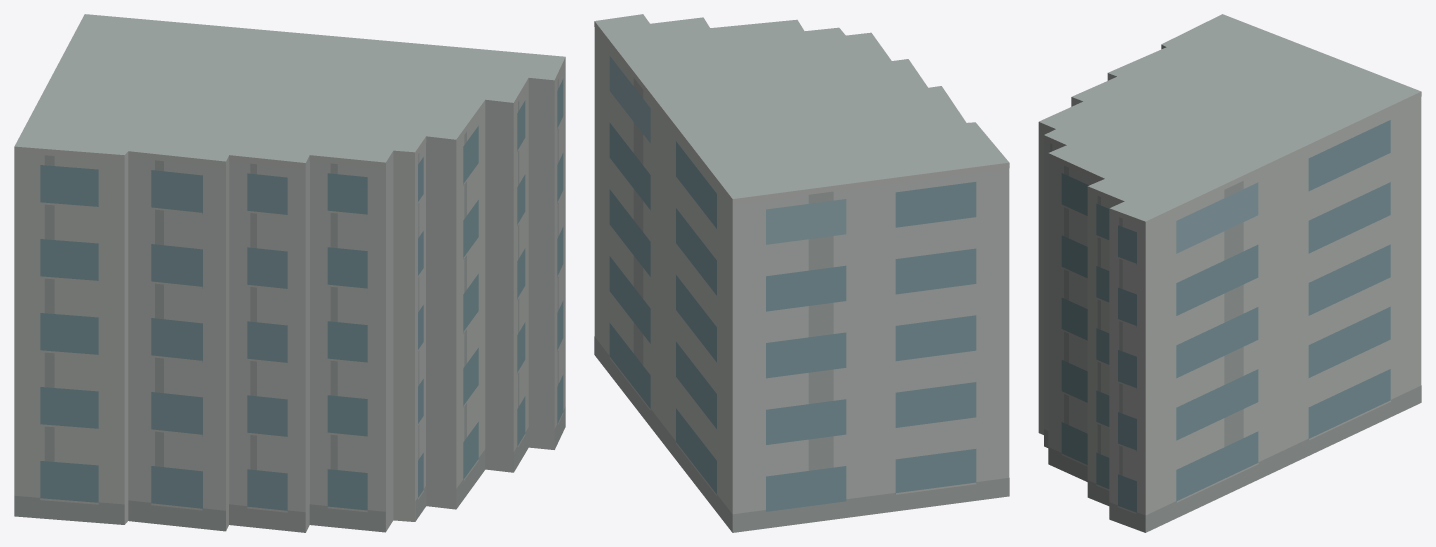
File: survey-upis-32561313.glb
3 views of the same model, side by side, from view 1: azimuth 30°, elevation 25°; view 2: azimuth 150°, elevation 25°; view 3: azimuth 270°, elevation 25° (orthographic). The views are drawn at different scales.
Visible parts, largest first — view 1: survey-upis-32561313.tmp; view 2: survey-upis-32561313.tmp; view 3: survey-upis-32561313.tmp.
Part boxes in pixels (x1,y1,x2,y2): survey-upis-32561313.tmp: [14, 14, 565, 532]; survey-upis-32561313.tmp: [594, 14, 1009, 532]; survey-upis-32561313.tmp: [1038, 14, 1421, 532].
Bounding box in the file's own units: 20.39 × 14.25 × 15.9.
